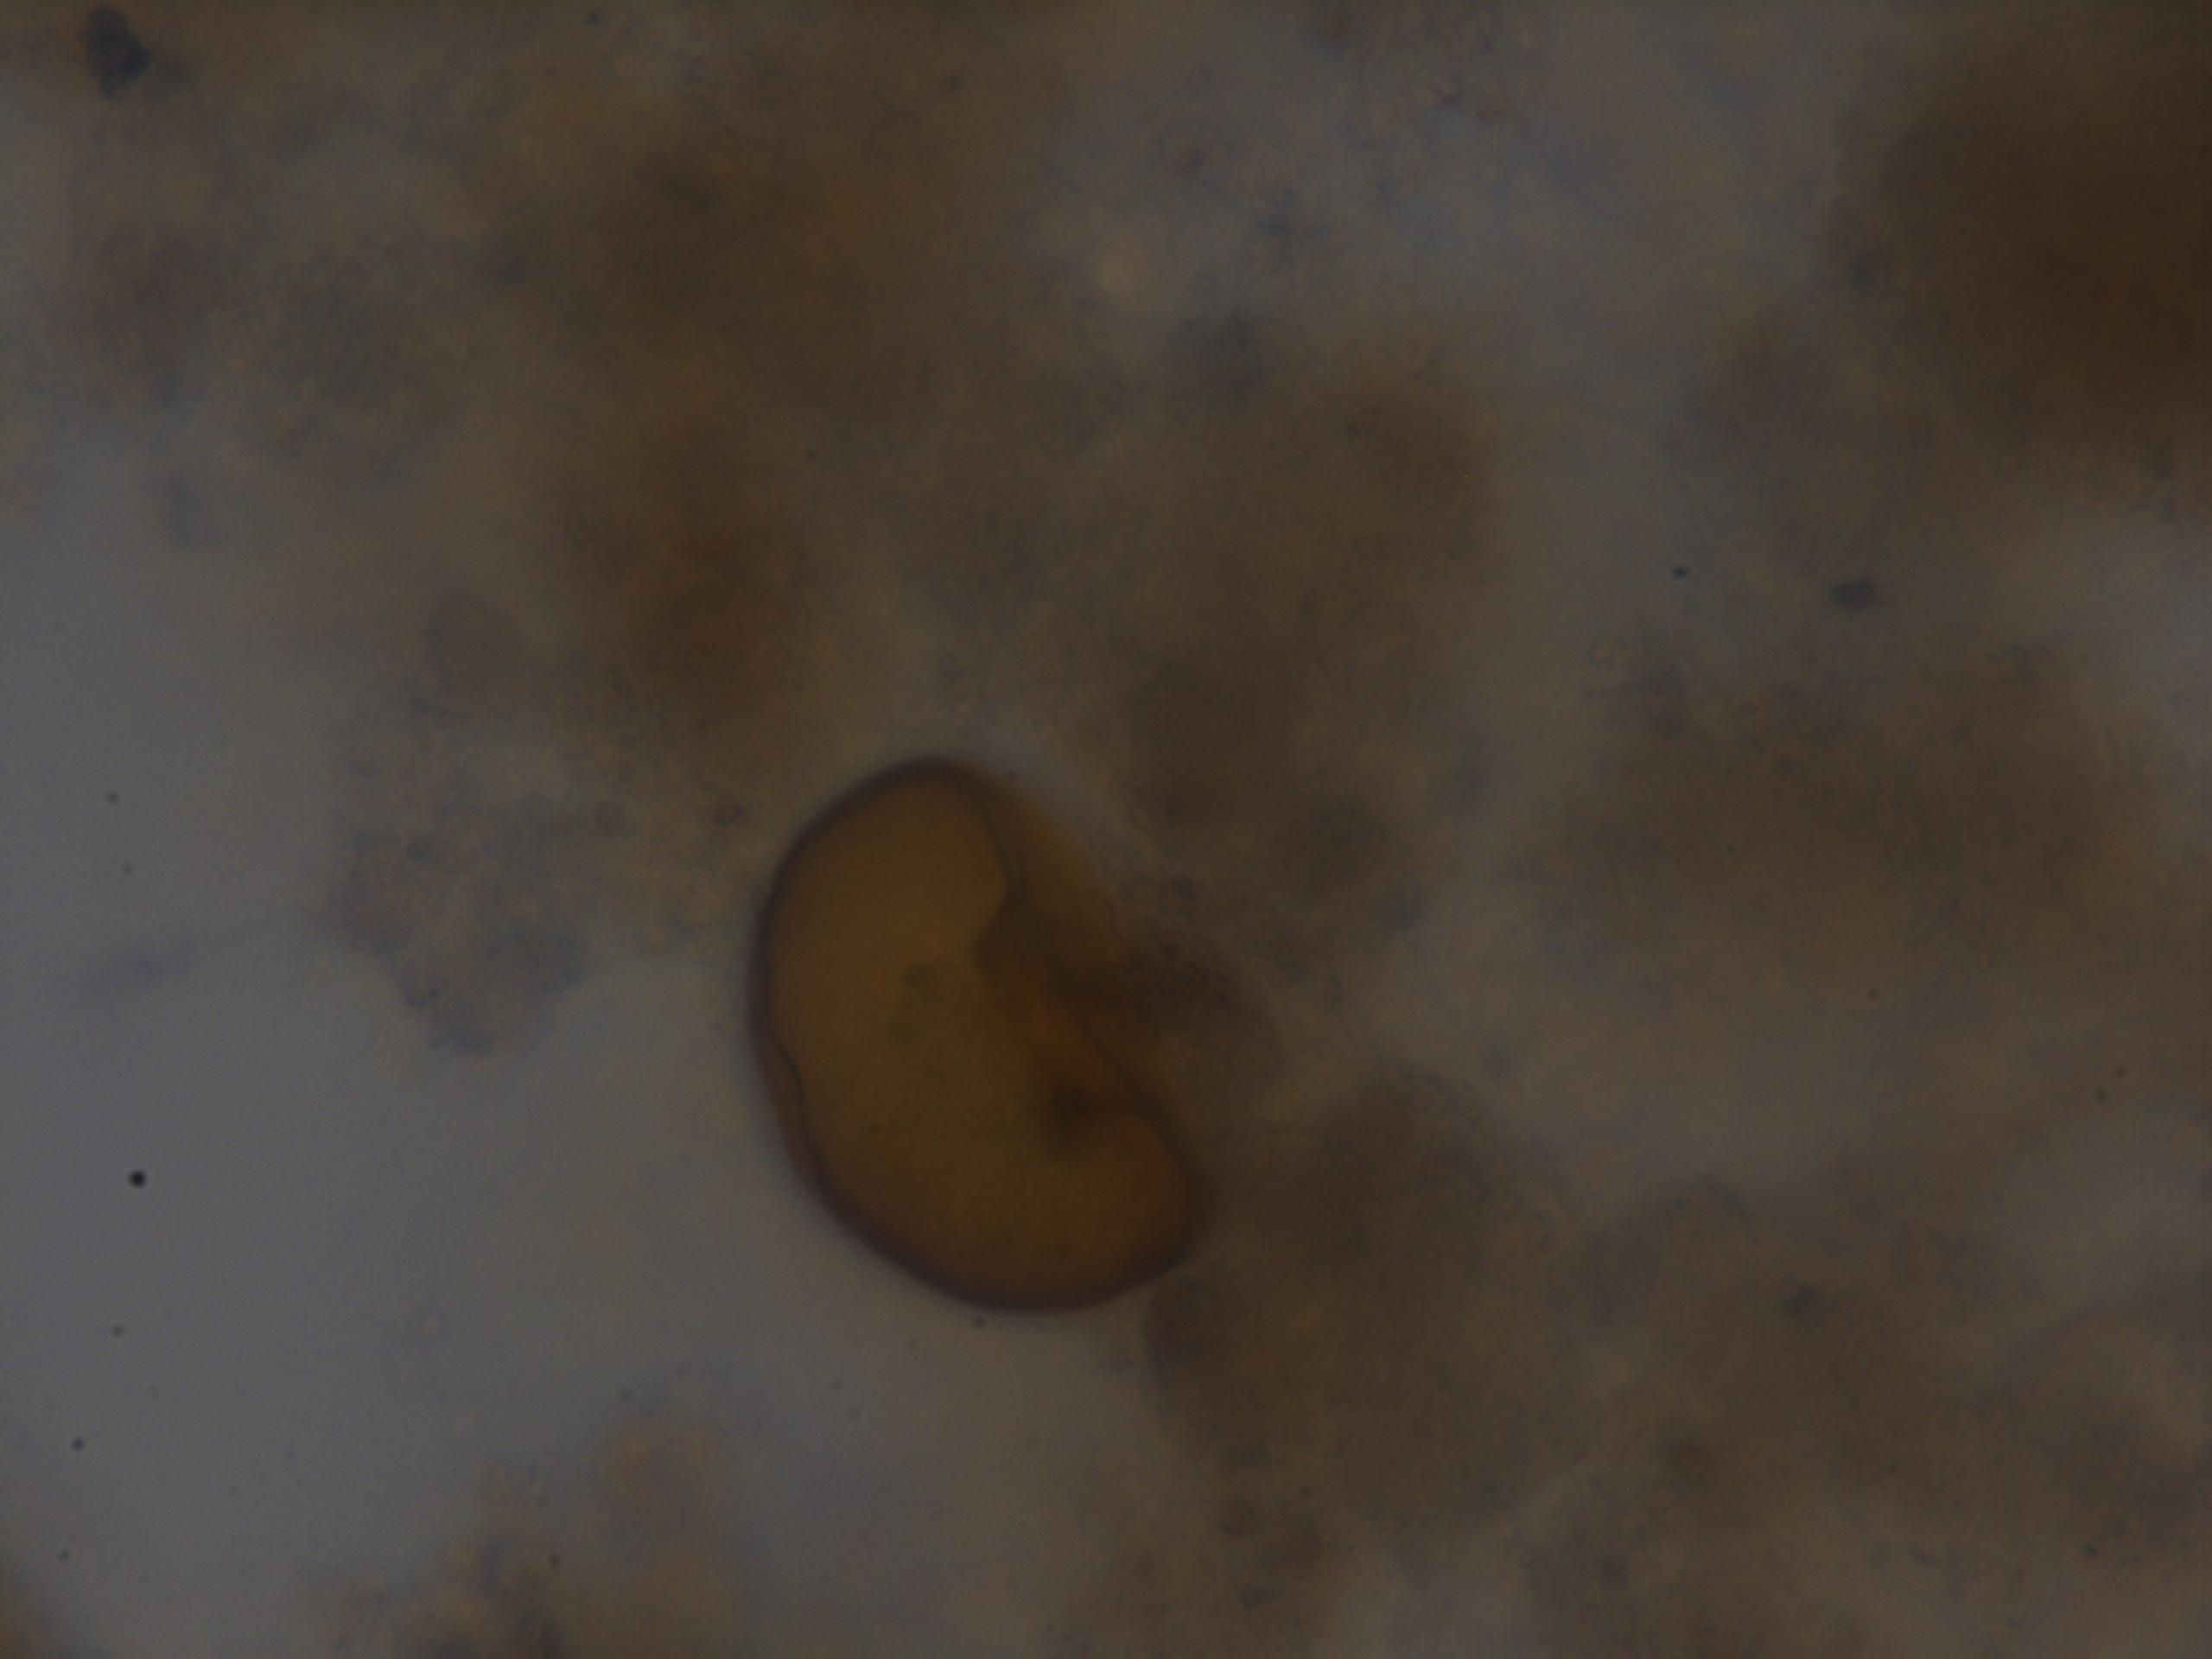protozoa: (740, 748, 1224, 1321)
